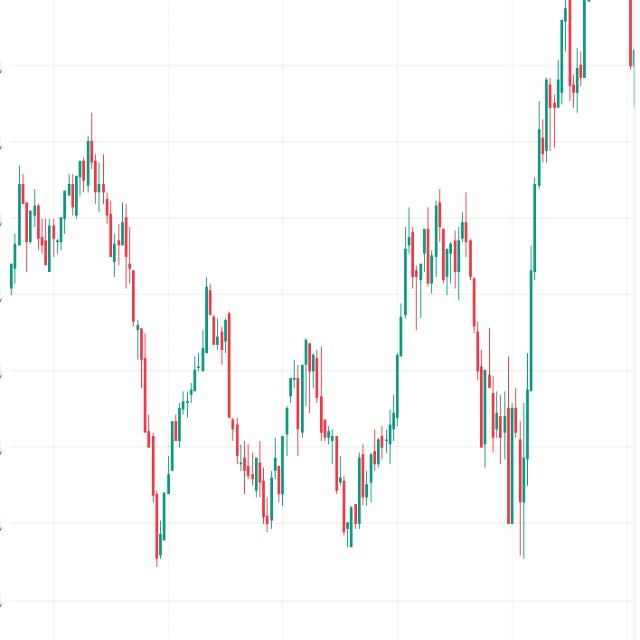Triple-Bottom: (122, 289, 412, 590)
Triple-Top: (392, 175, 487, 319)
